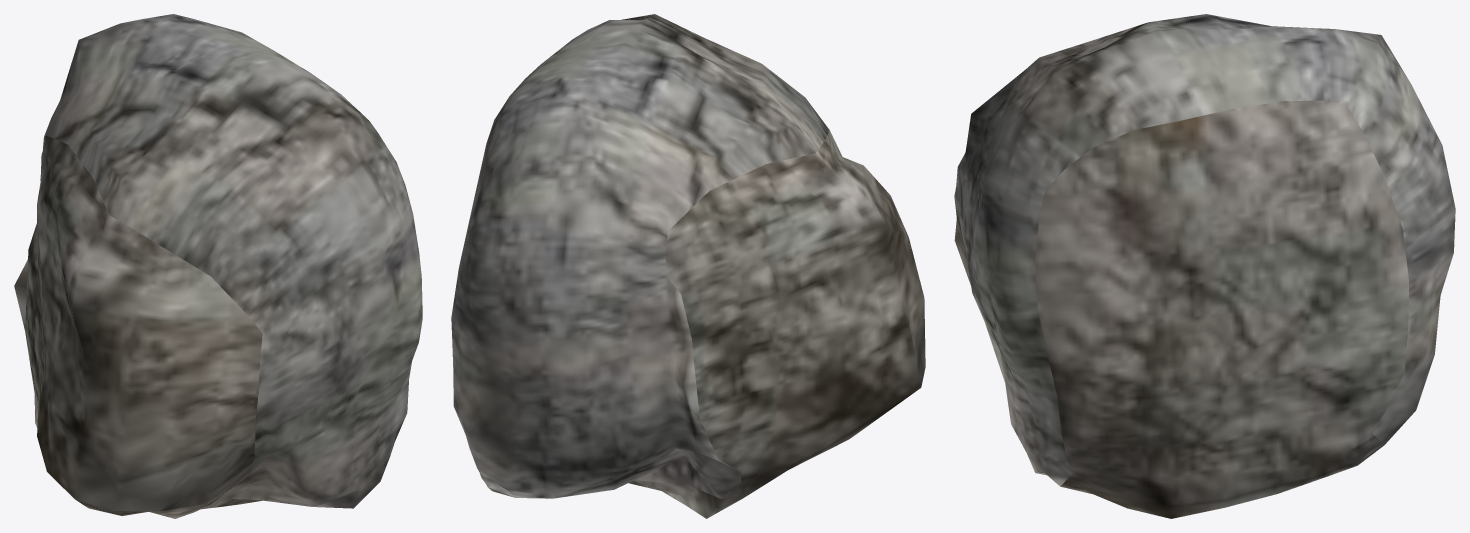
The model's file is Rock.FBX.
3 views of the same model, side by side, from view 1: azimuth 30°, elevation 25°; view 2: azimuth 150°, elevation 25°; view 3: azimuth 270°, elevation 25° (orthographic). The views are drawn at different scales.
Parts seen in each view (by area): view 1: sphere005; view 2: sphere005; view 3: sphere005.
Boxes of the visible parts, x1,y1,x2,y2 form: sphere005: (14,14,422,518); sphere005: (451,14,925,518); sphere005: (954,14,1455,518).
Size of the model in its own units: 57.84 by 70.13 by 69.11.
Materials: 1 (1 with a texture image).
